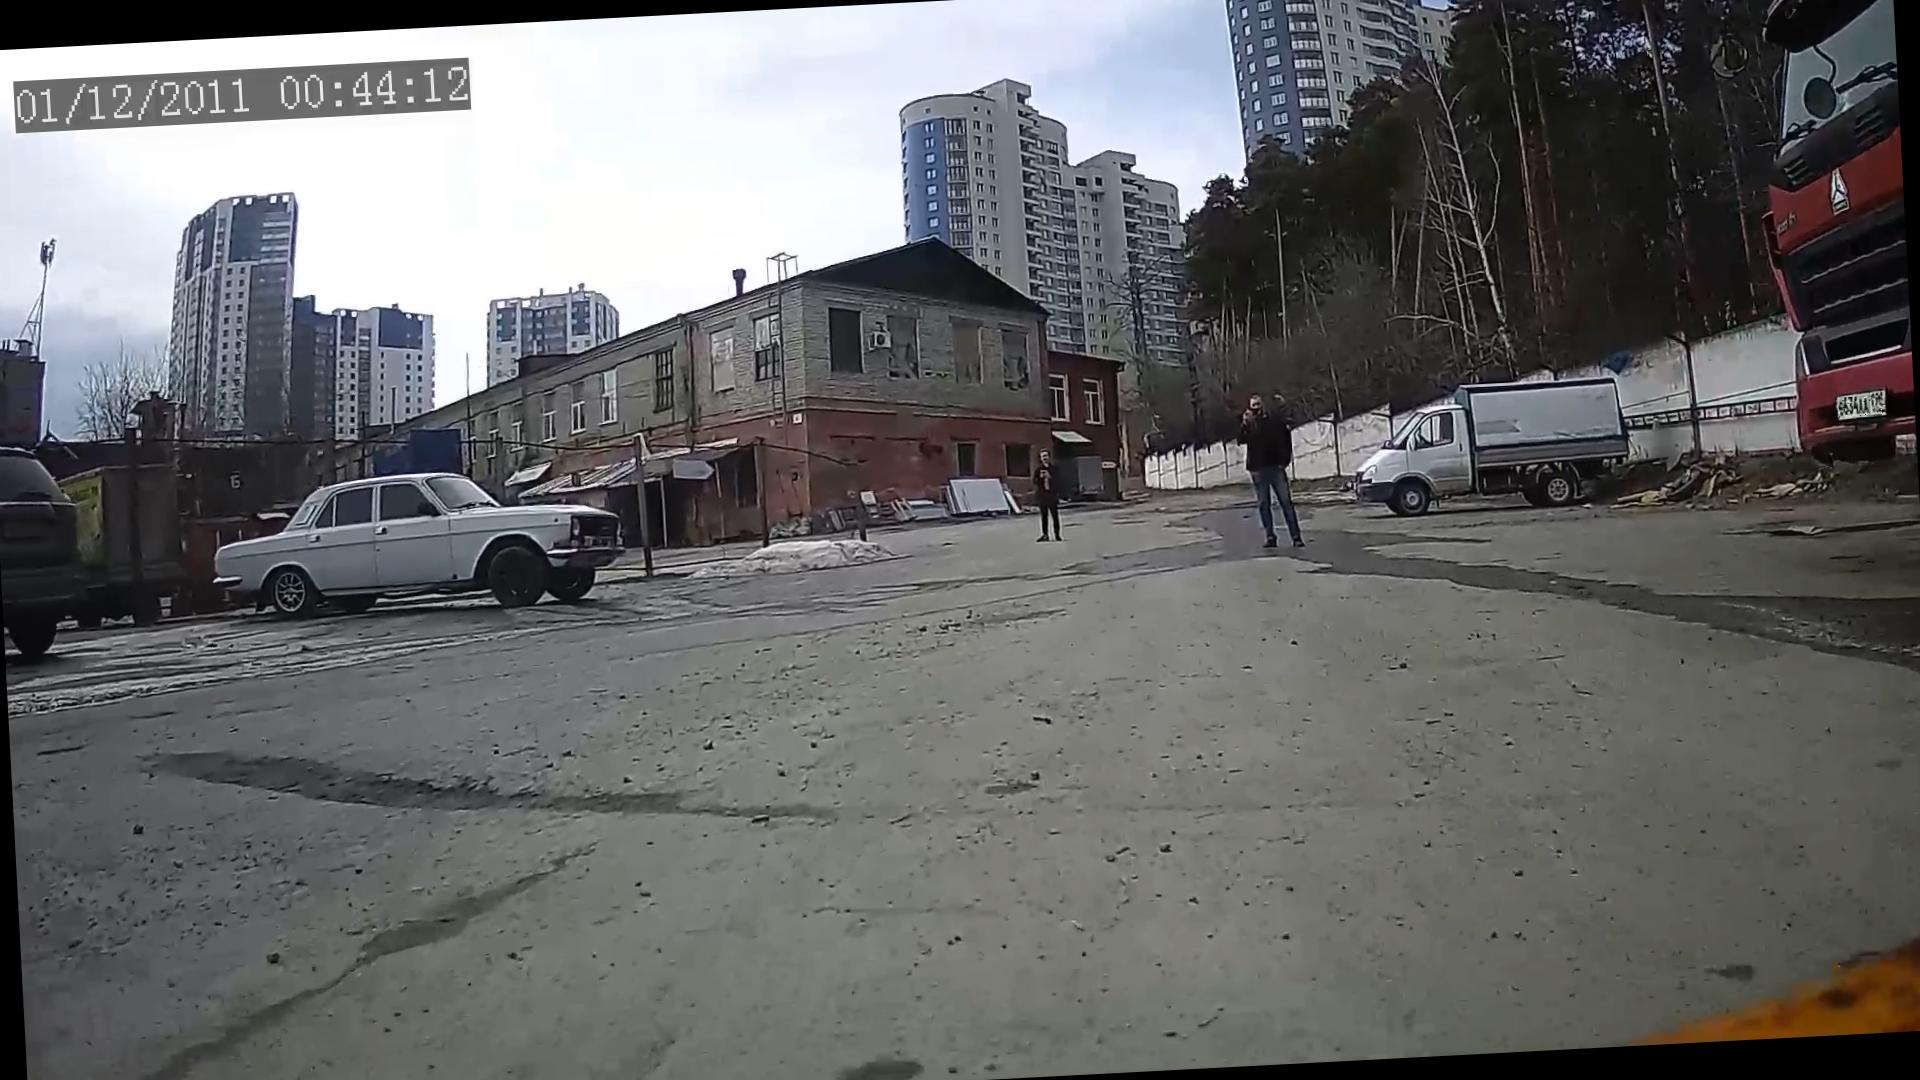plate: (1834, 397, 1884, 419)
